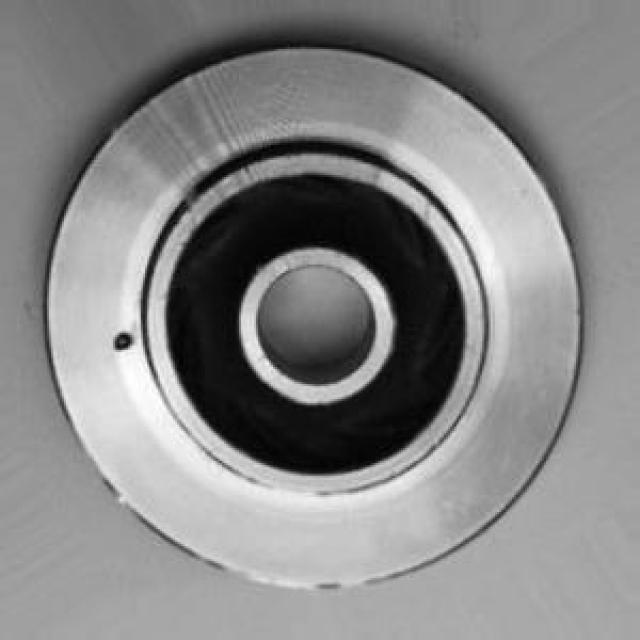Defect: (101, 325, 138, 358)
